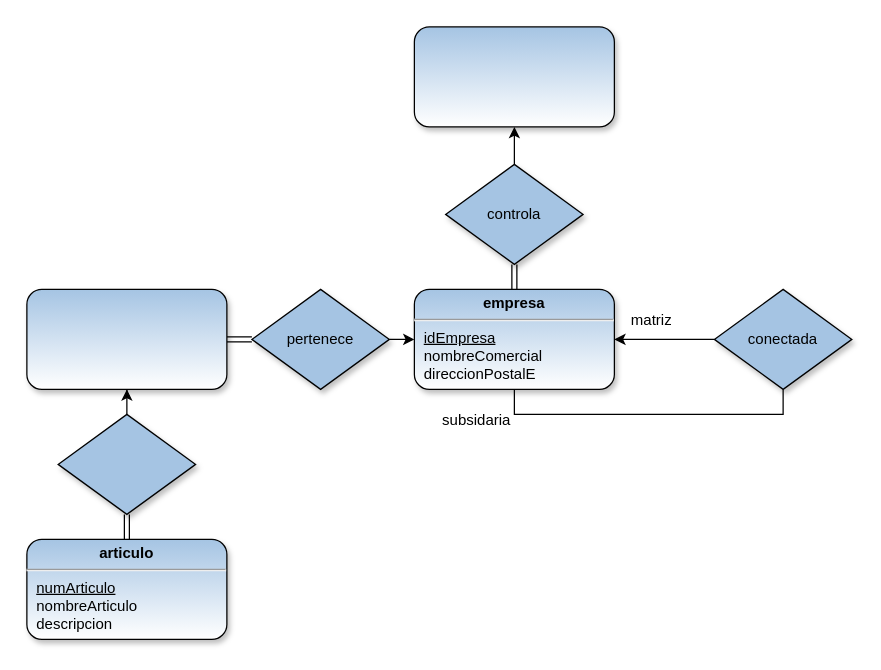
Image size: 881x670. Some labels were removed from this diagram. The shapes that lost their labels are listed below. From the top down, each one's centre as x and y in pixels, then its label:
[515,78]: grupo rfc direccionPostalG razonSocial
[127,340]: planta idPlanta nombrePlanta direccionPlanta
[127,465]: produce
